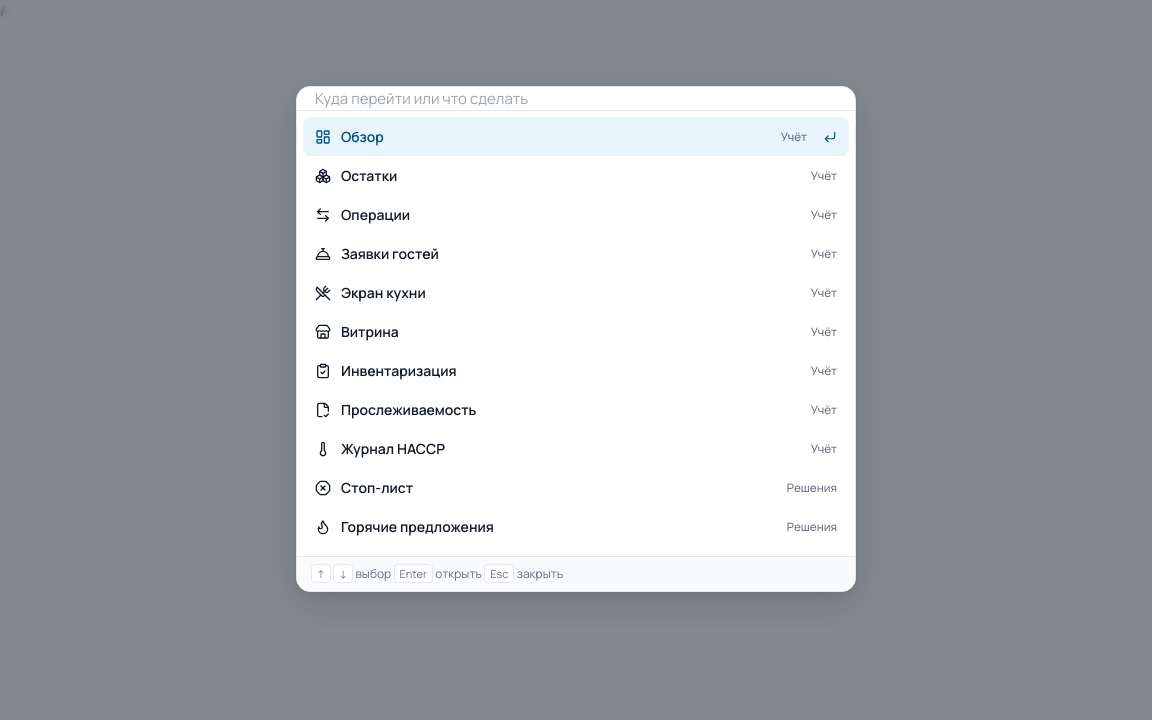
Test: палитра команд › ищет по разделам и руководству, Enter открывает выбранное
In the dropdown: (576, 99) [297,87,855,111], type "стоп"
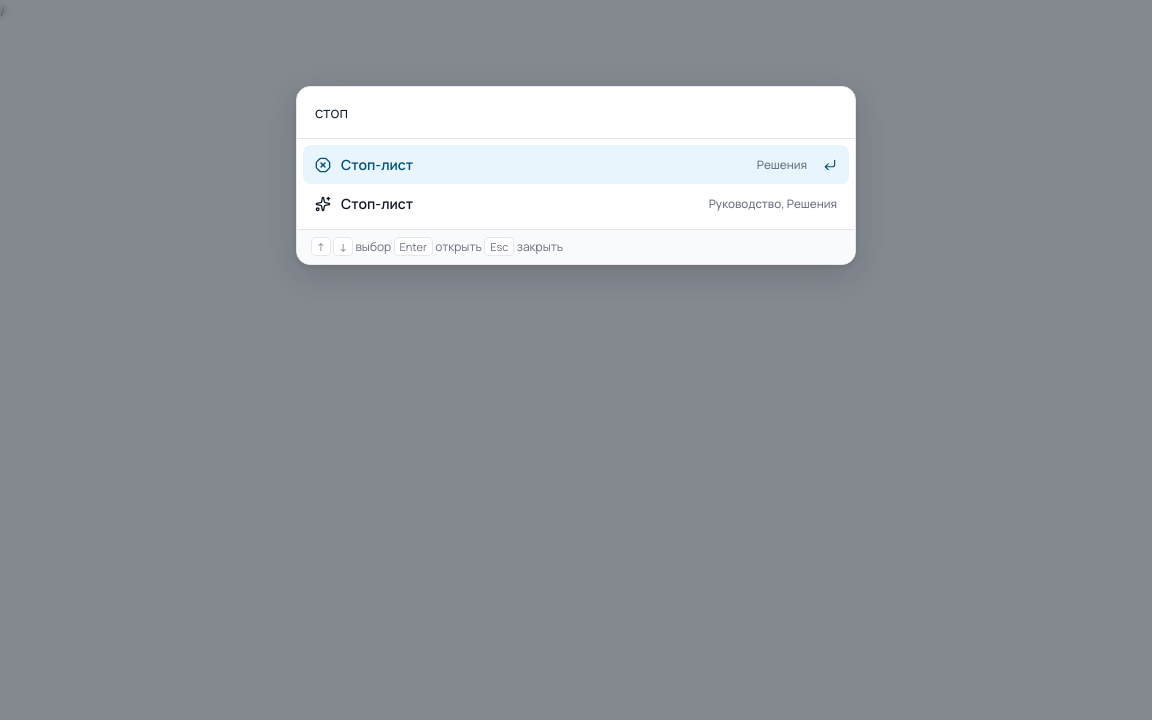
Expected: the option "Стоп-лист Решения" is shown, [303,145,849,184]
Press Enter in the dropdown, box [297,87,855,139]
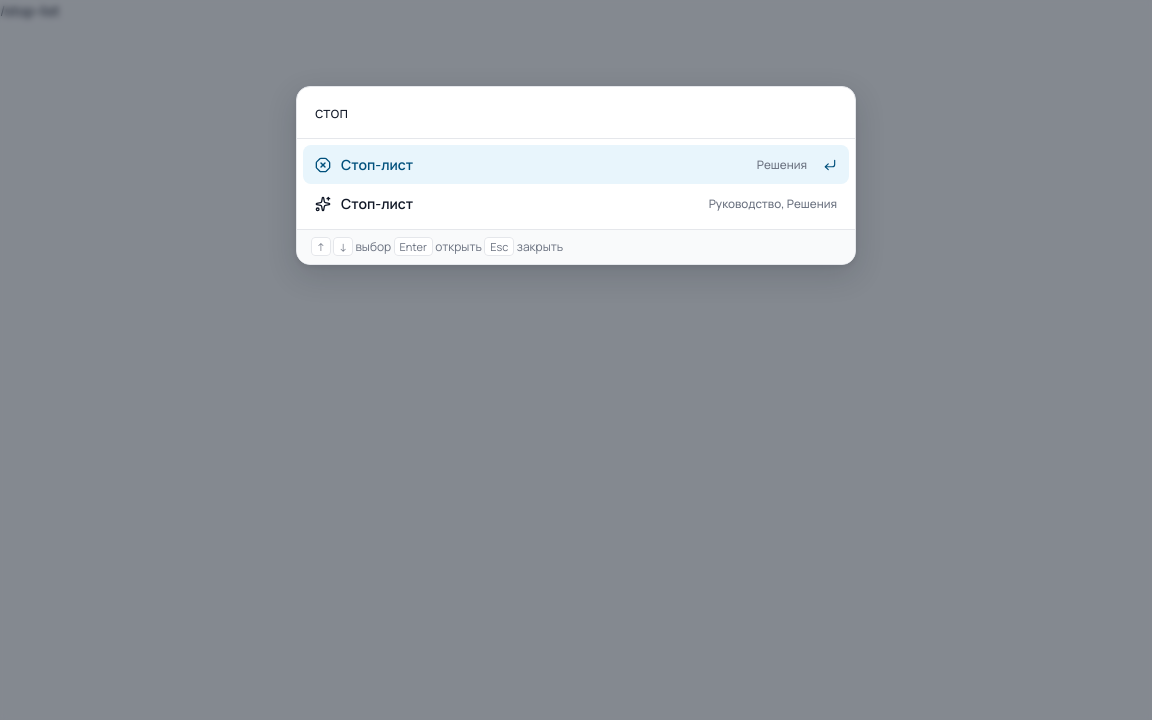
Expected: the text with test id "where" reads "/stop-list", [0,1,60,20]
